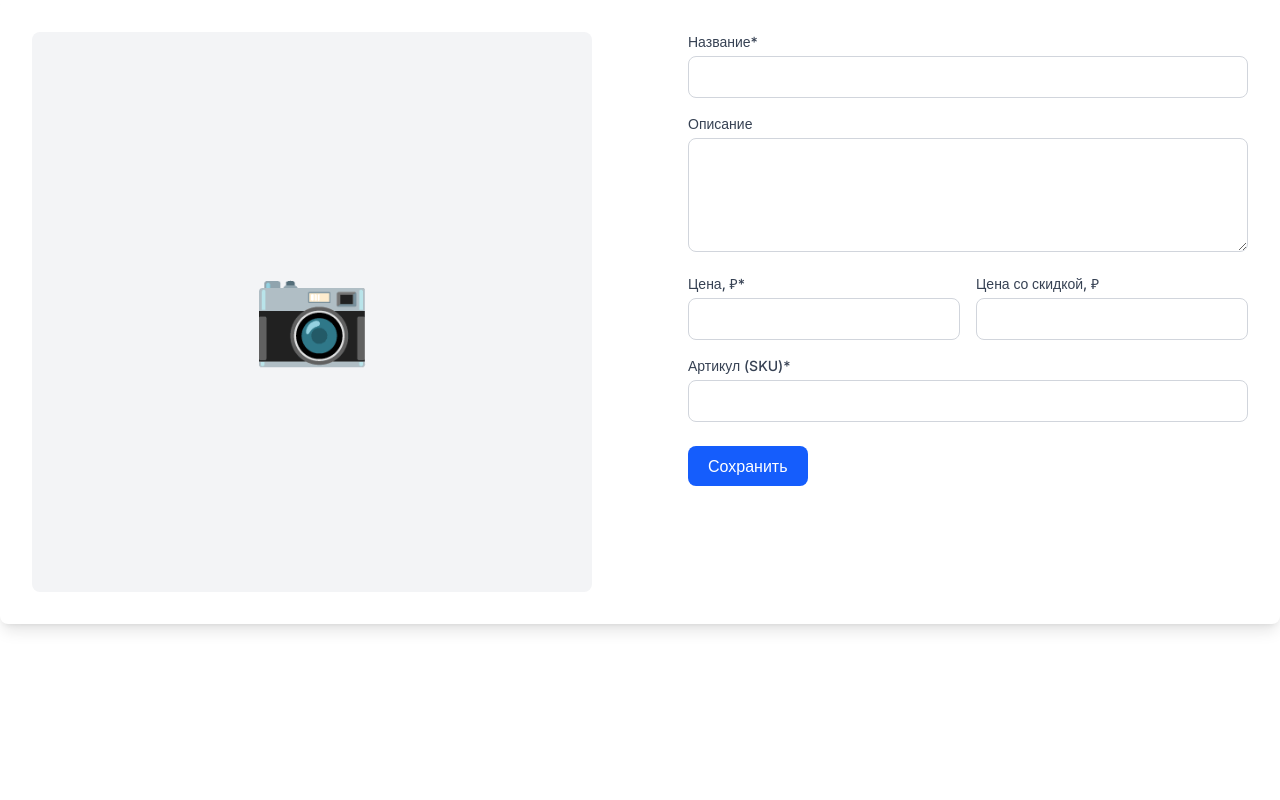
Scenario: ProductForm › рендерит форму и показывает валидацию в режиме create
Note: Сабмит без обязательных полей
Click the button "Сохранить": click(748, 466) [688,446,808,486]
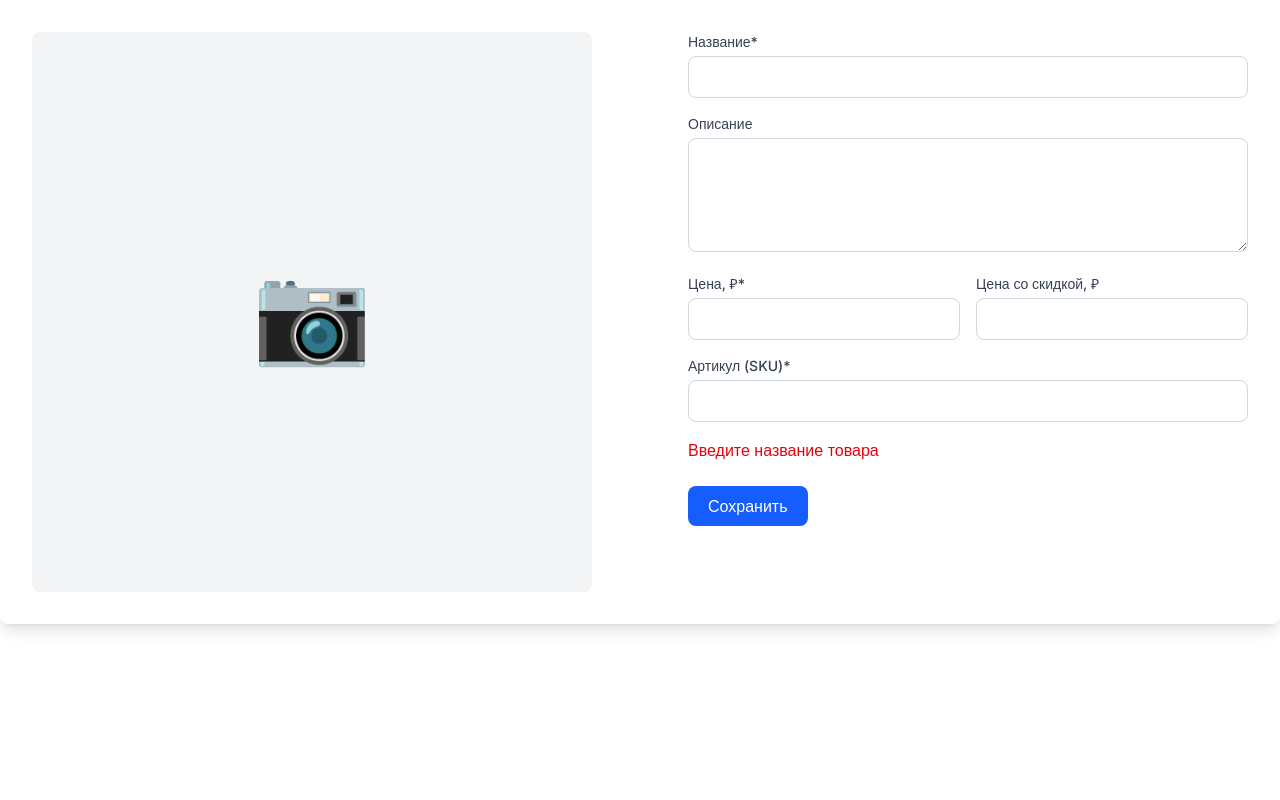
Result: the text "Введите название товара" is shown at [688,440,879,460]
In the field labelled "Название*": (968, 77) [688,56,1248,98], type "Товар"
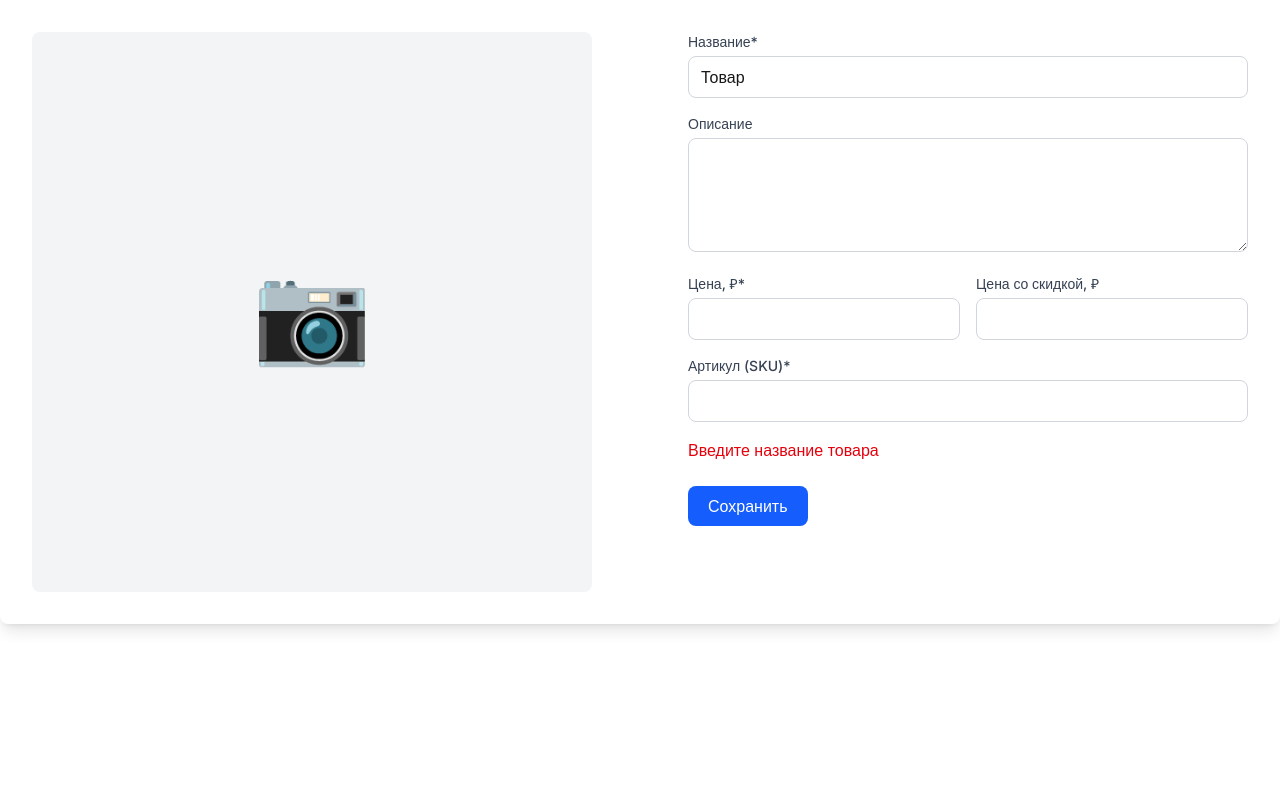
Click the button "Сохранить": click(748, 506) [688,486,808,526]
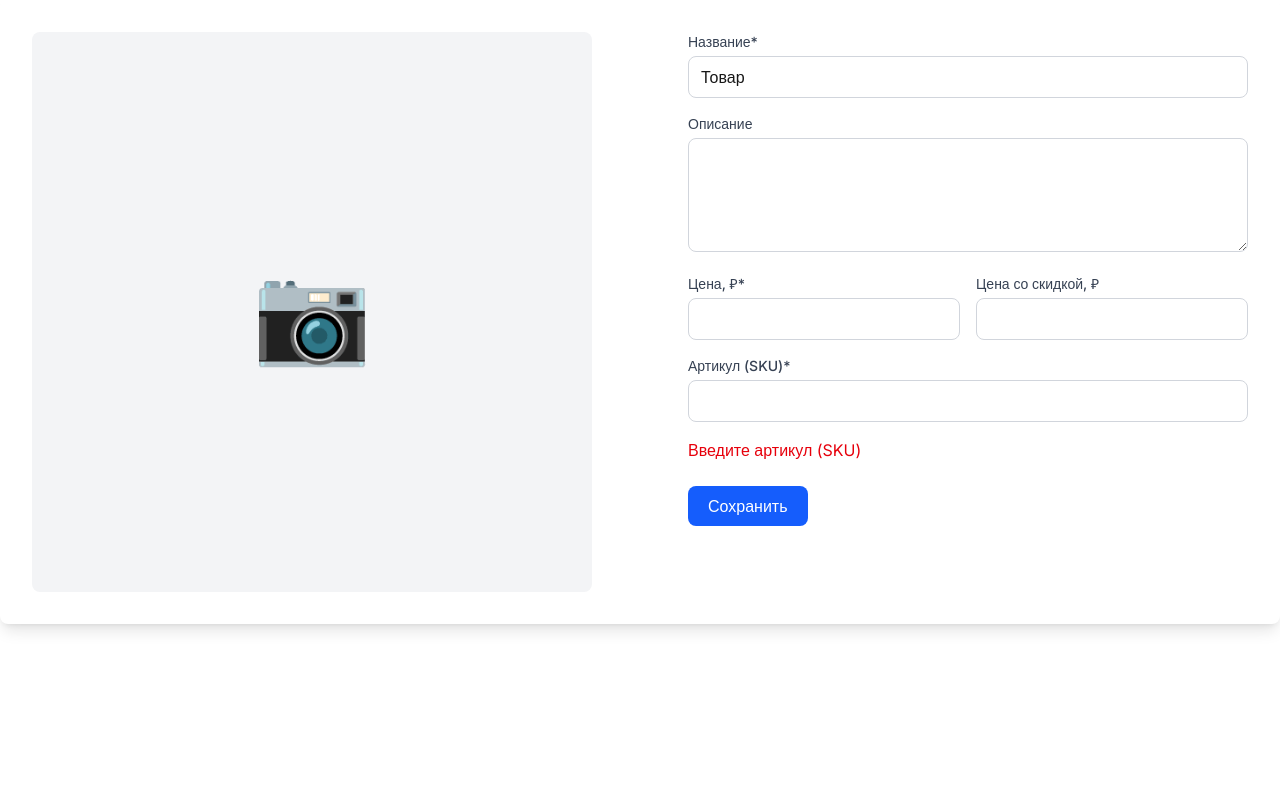
Result: the text "Введите артикул (SKU)" is shown at [688,440,861,460]
In the field labelled "Артикул (SKU)*": (968, 401) [688,380,1248,422], type "SKU1"
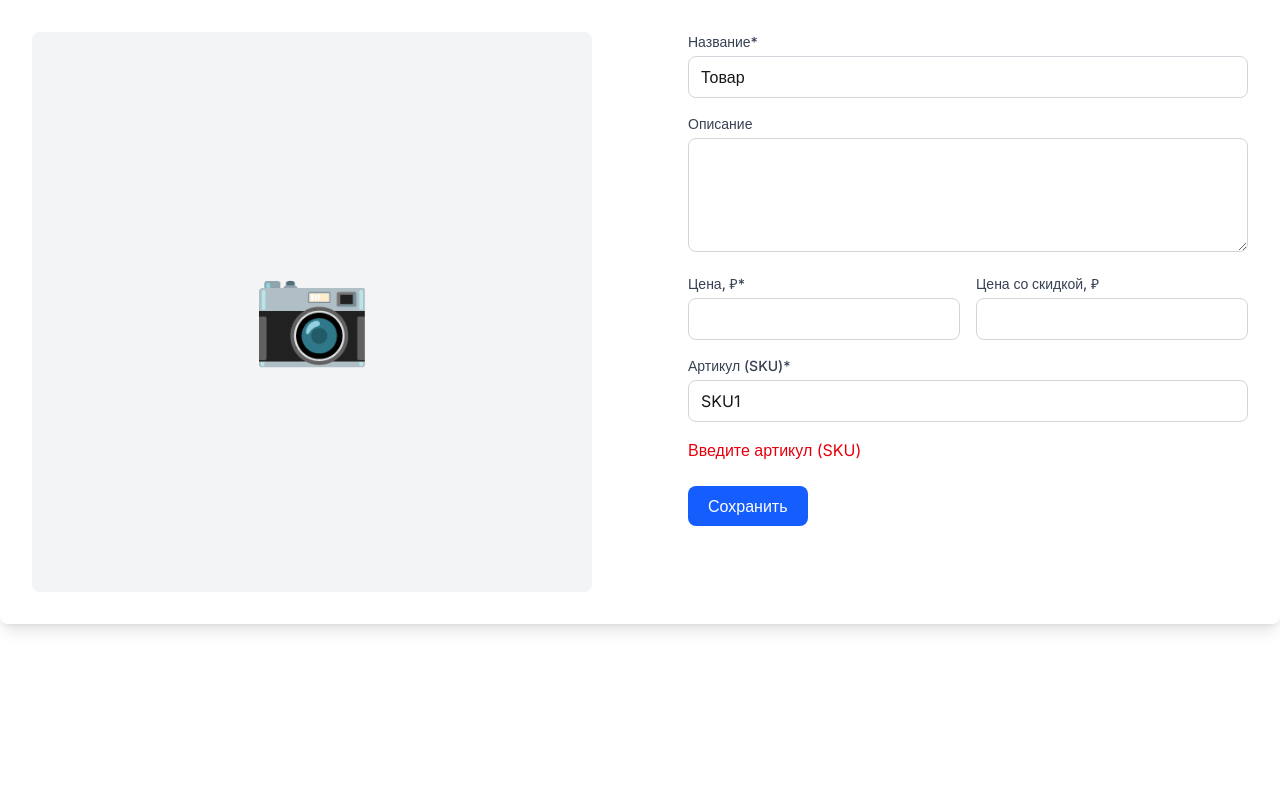
Click the button "Сохранить": click(748, 506) [688,486,808,526]
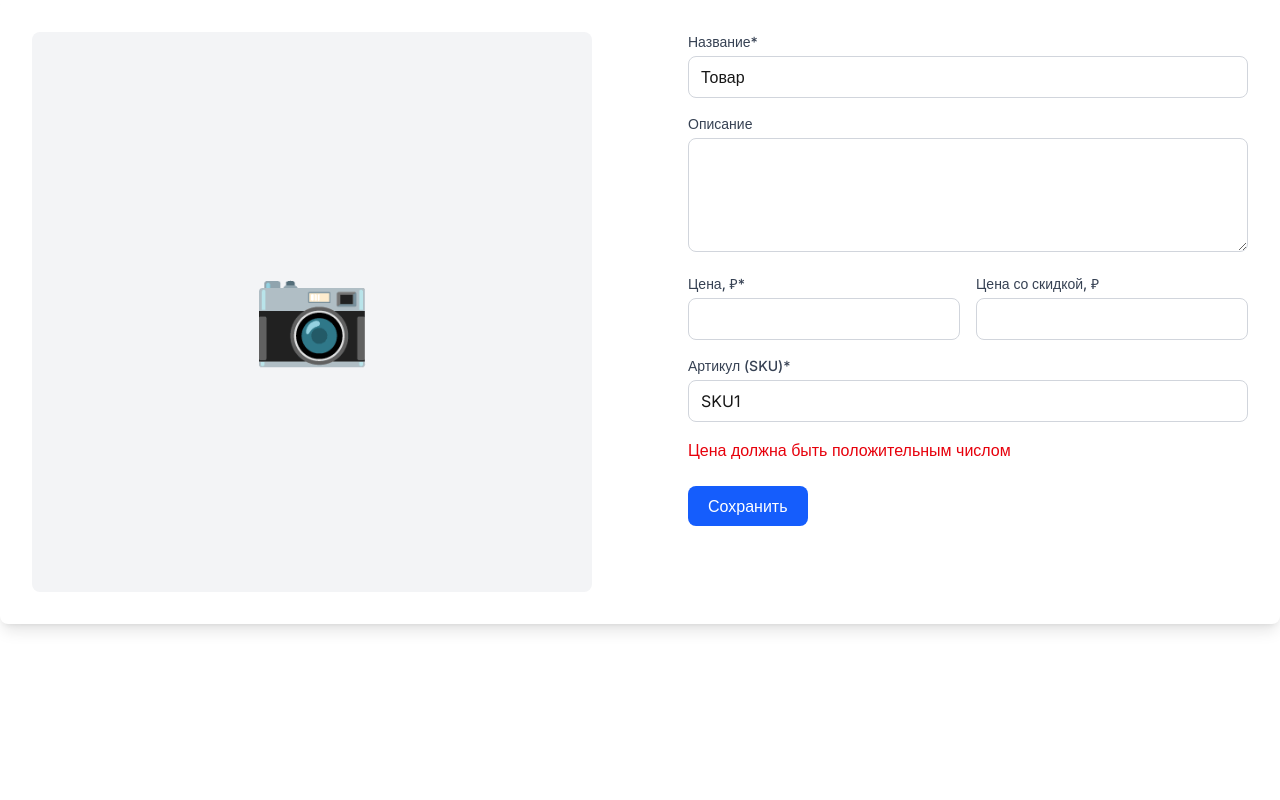
Result: the text "Цена должна быть положительным числом" is shown at [688,440,1011,460]
